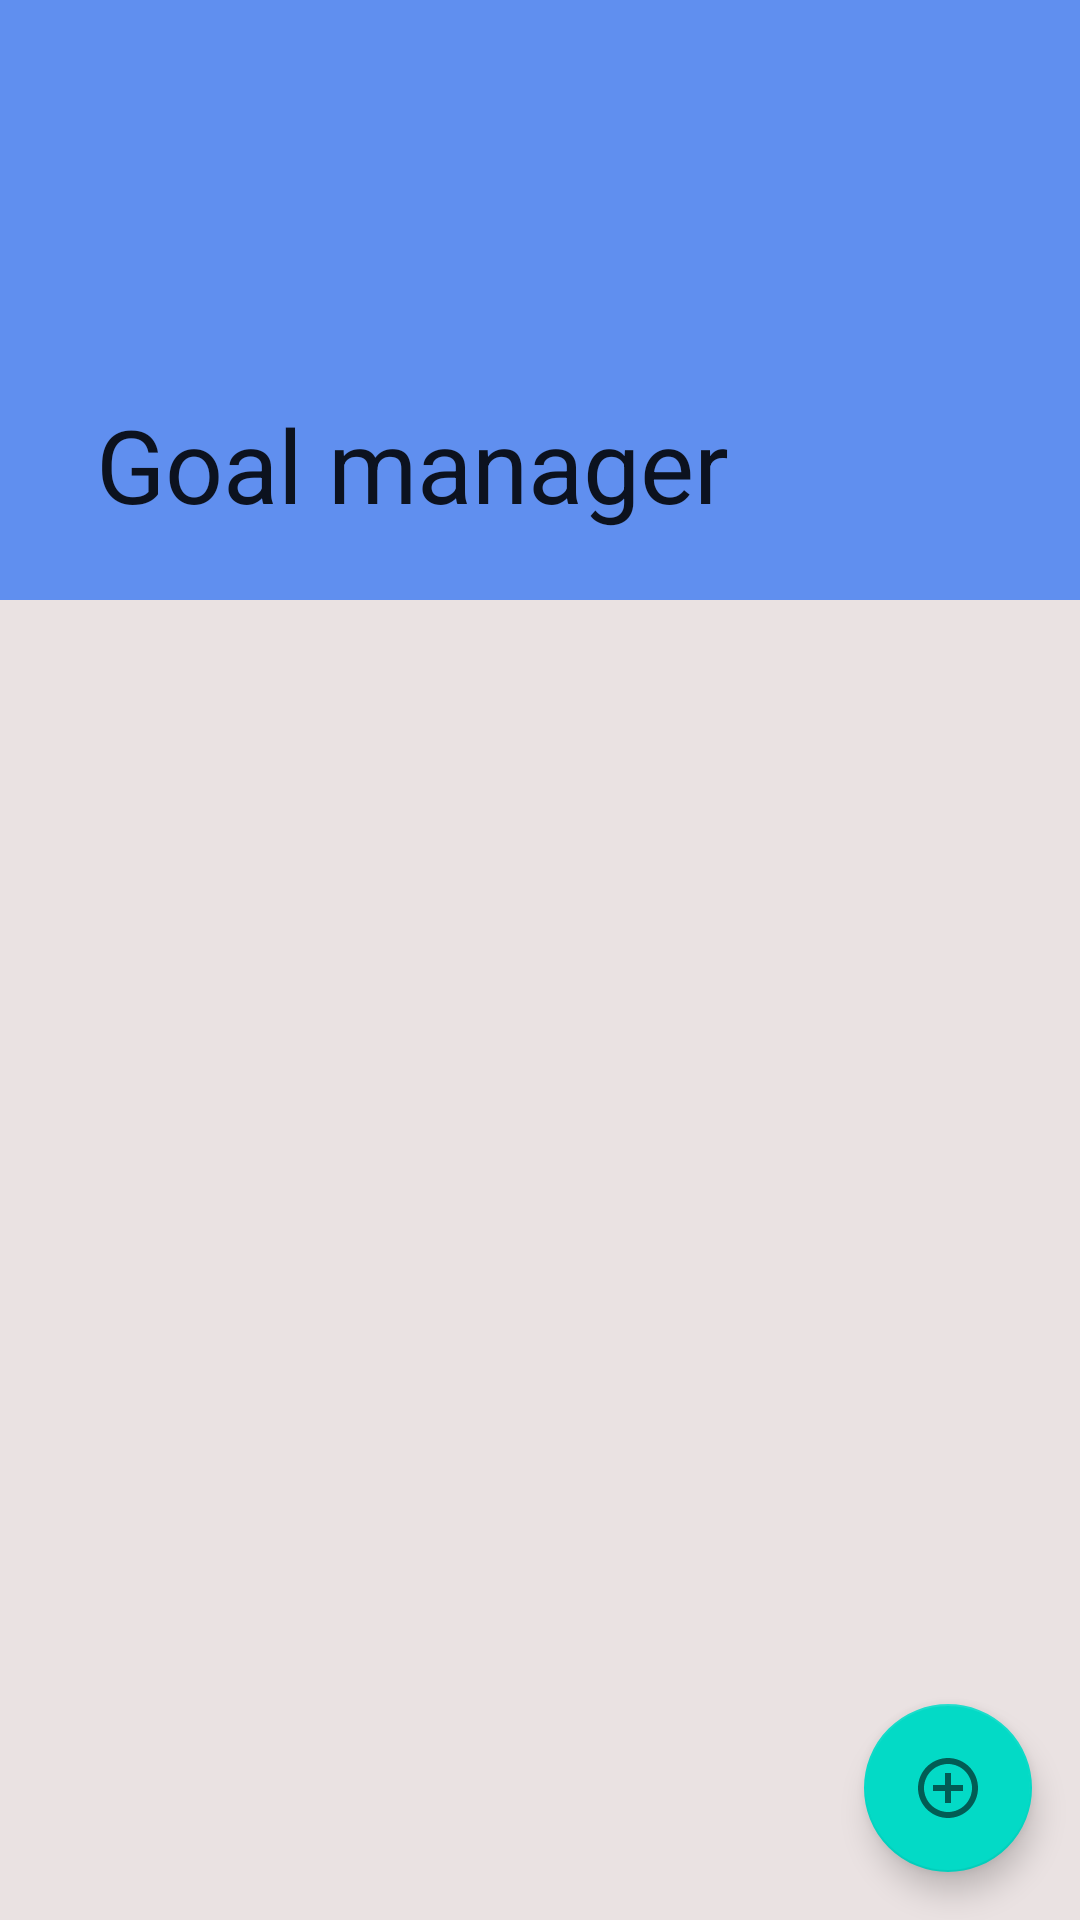

Screen size 1080px x 1920px. Icon name, then its center in pixels as point (x, y):
add circle: point (948, 1788)
